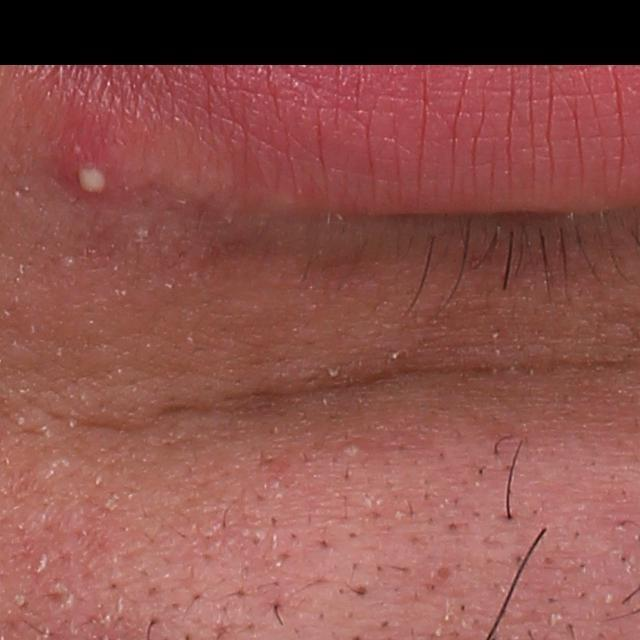comedo: (435, 563, 456, 580)
pustule: (63, 131, 128, 200)
